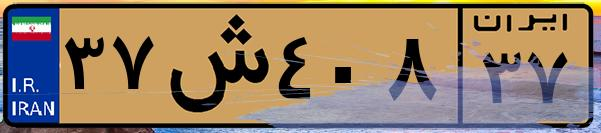0: (330, 28, 385, 110)
3: (57, 26, 110, 100), (475, 38, 525, 113)
4: (270, 28, 330, 110)
7: (525, 38, 570, 115), (110, 28, 158, 98)
8: (385, 28, 445, 110)
ش: (158, 12, 270, 120)
